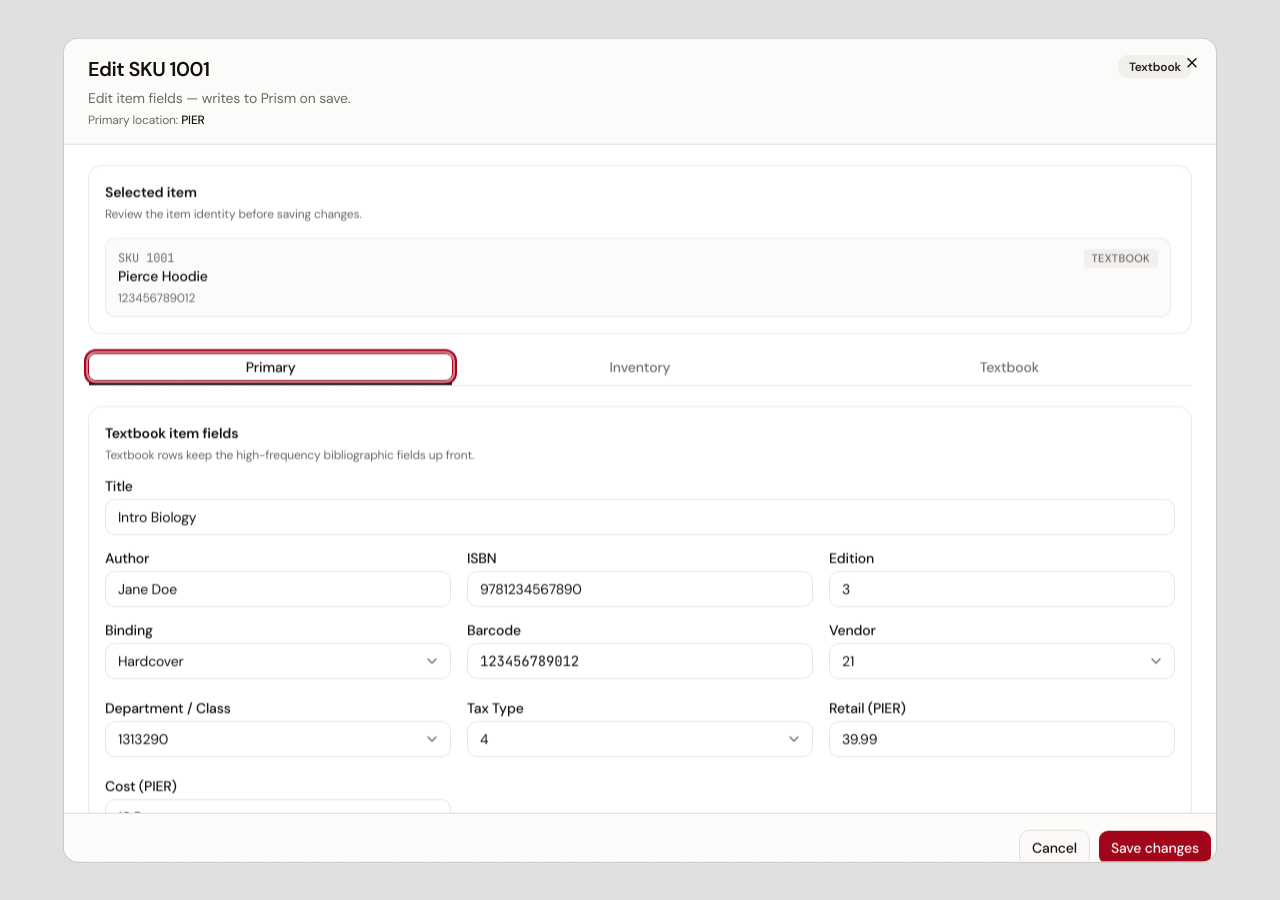
it: EditItemDialogV2 › renders textbook-aware primary fields and a Textbook tab for single textbook items
Expected: the field labelled "Title" is shown, [105,498,1175,534]
Expected: the field labelled "Author" is shown, [105,570,451,606]
Click the tab "Textbook": x=1009, y=367 [827,353,1192,381]
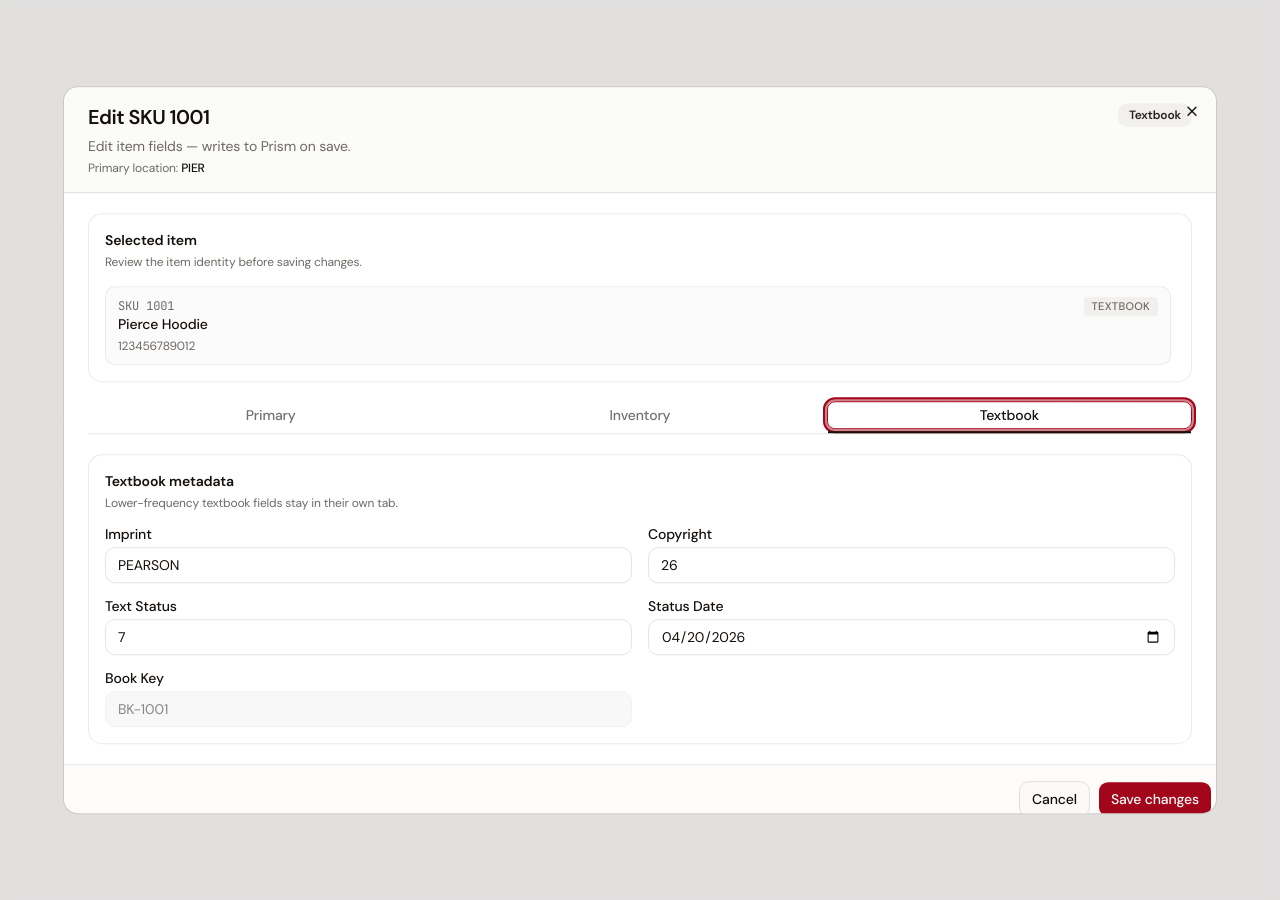
Now the field labelled "Imprint" is shown, box [105,547,632,583]
Now the field labelled "Copyright" is shown, box [648,547,1175,583]
Now the number field labelled "Text Status" is shown, box [105,619,632,655]
